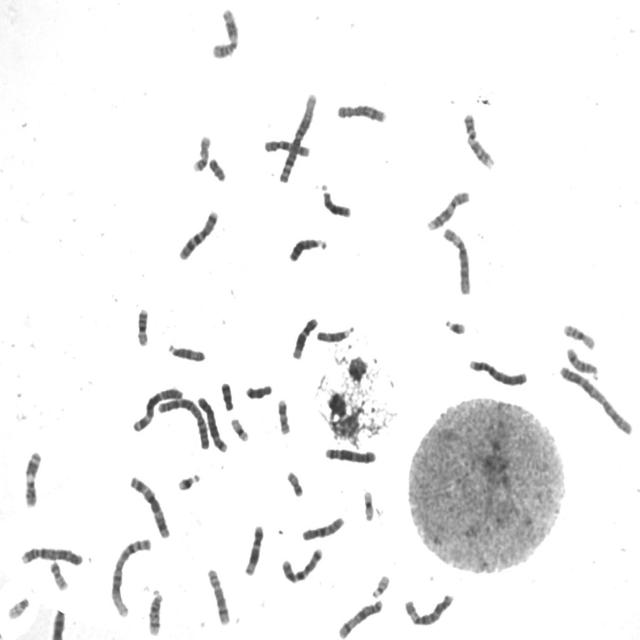A1: (276, 88, 320, 184), (108, 533, 154, 619)
A2: (556, 360, 636, 437), (154, 393, 213, 451)
A3: (126, 471, 172, 539), (130, 383, 185, 433)
B4: (466, 354, 530, 388), (18, 543, 85, 567)
B5: (195, 391, 230, 454), (323, 444, 378, 465)
C10: (299, 512, 347, 542), (262, 135, 312, 158)
C11: (209, 3, 241, 60), (21, 446, 44, 509)
C12: (290, 313, 320, 361), (242, 521, 266, 577)
C6: (440, 222, 474, 296), (402, 590, 456, 628)
C7: (176, 205, 221, 261), (280, 544, 326, 585)
C8: (205, 564, 233, 627), (334, 99, 389, 123)
C9: (461, 108, 497, 170), (425, 186, 472, 232)
D13: (286, 232, 329, 264), (320, 183, 354, 219)
D14: (564, 342, 602, 380), (145, 585, 165, 637)
D15: (165, 340, 208, 363), (314, 322, 356, 343)
E16: (560, 319, 598, 350), (135, 304, 151, 347)
E17: (190, 131, 213, 173), (276, 394, 292, 436)
E18: (243, 380, 274, 400), (218, 378, 236, 412)
F19: (228, 414, 251, 443), (360, 486, 377, 522)
F20: (47, 557, 70, 591), (284, 467, 306, 498)
G21: (175, 468, 203, 492), (442, 314, 469, 336)
G22: (5, 593, 31, 620), (369, 571, 392, 599)
X: (336, 596, 385, 639)
Y: (206, 154, 228, 182)
